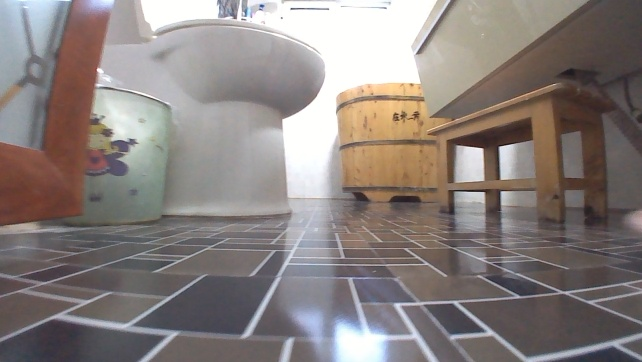toilet: (96, 0, 329, 217)
